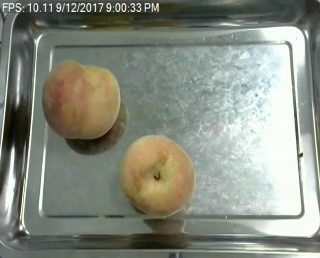Peach: (41, 58, 123, 142), (119, 134, 195, 216)
